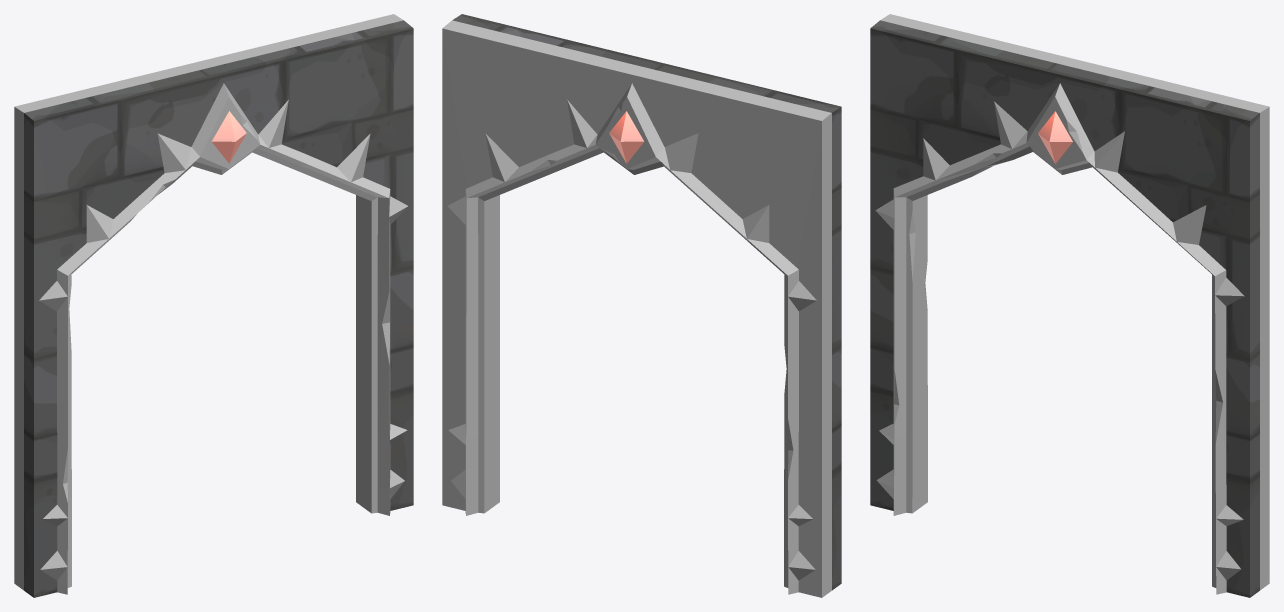
Rendered from SM_Bld_Wall_Door_Double_02.fbx.
3 views of the same model, side by side, from view 1: azimuth 30°, elevation 25°; view 2: azimuth 150°, elevation 25°; view 3: azimuth 330°, elevation 25° (orthographic).
Parts seen in each view (by area): view 1: SM_Bld_Wall_Door_Double_02; view 2: SM_Bld_Wall_Door_Double_02; view 3: SM_Bld_Wall_Door_Double_02.
Part boxes in pixels (box(x1,y1,x2,y2)): SM_Bld_Wall_Door_Double_02: box(14, 14, 413, 597); SM_Bld_Wall_Door_Double_02: box(442, 14, 841, 597); SM_Bld_Wall_Door_Double_02: box(870, 14, 1269, 597).
Size of the model in its own units: 250 by 301 by 47.85.
